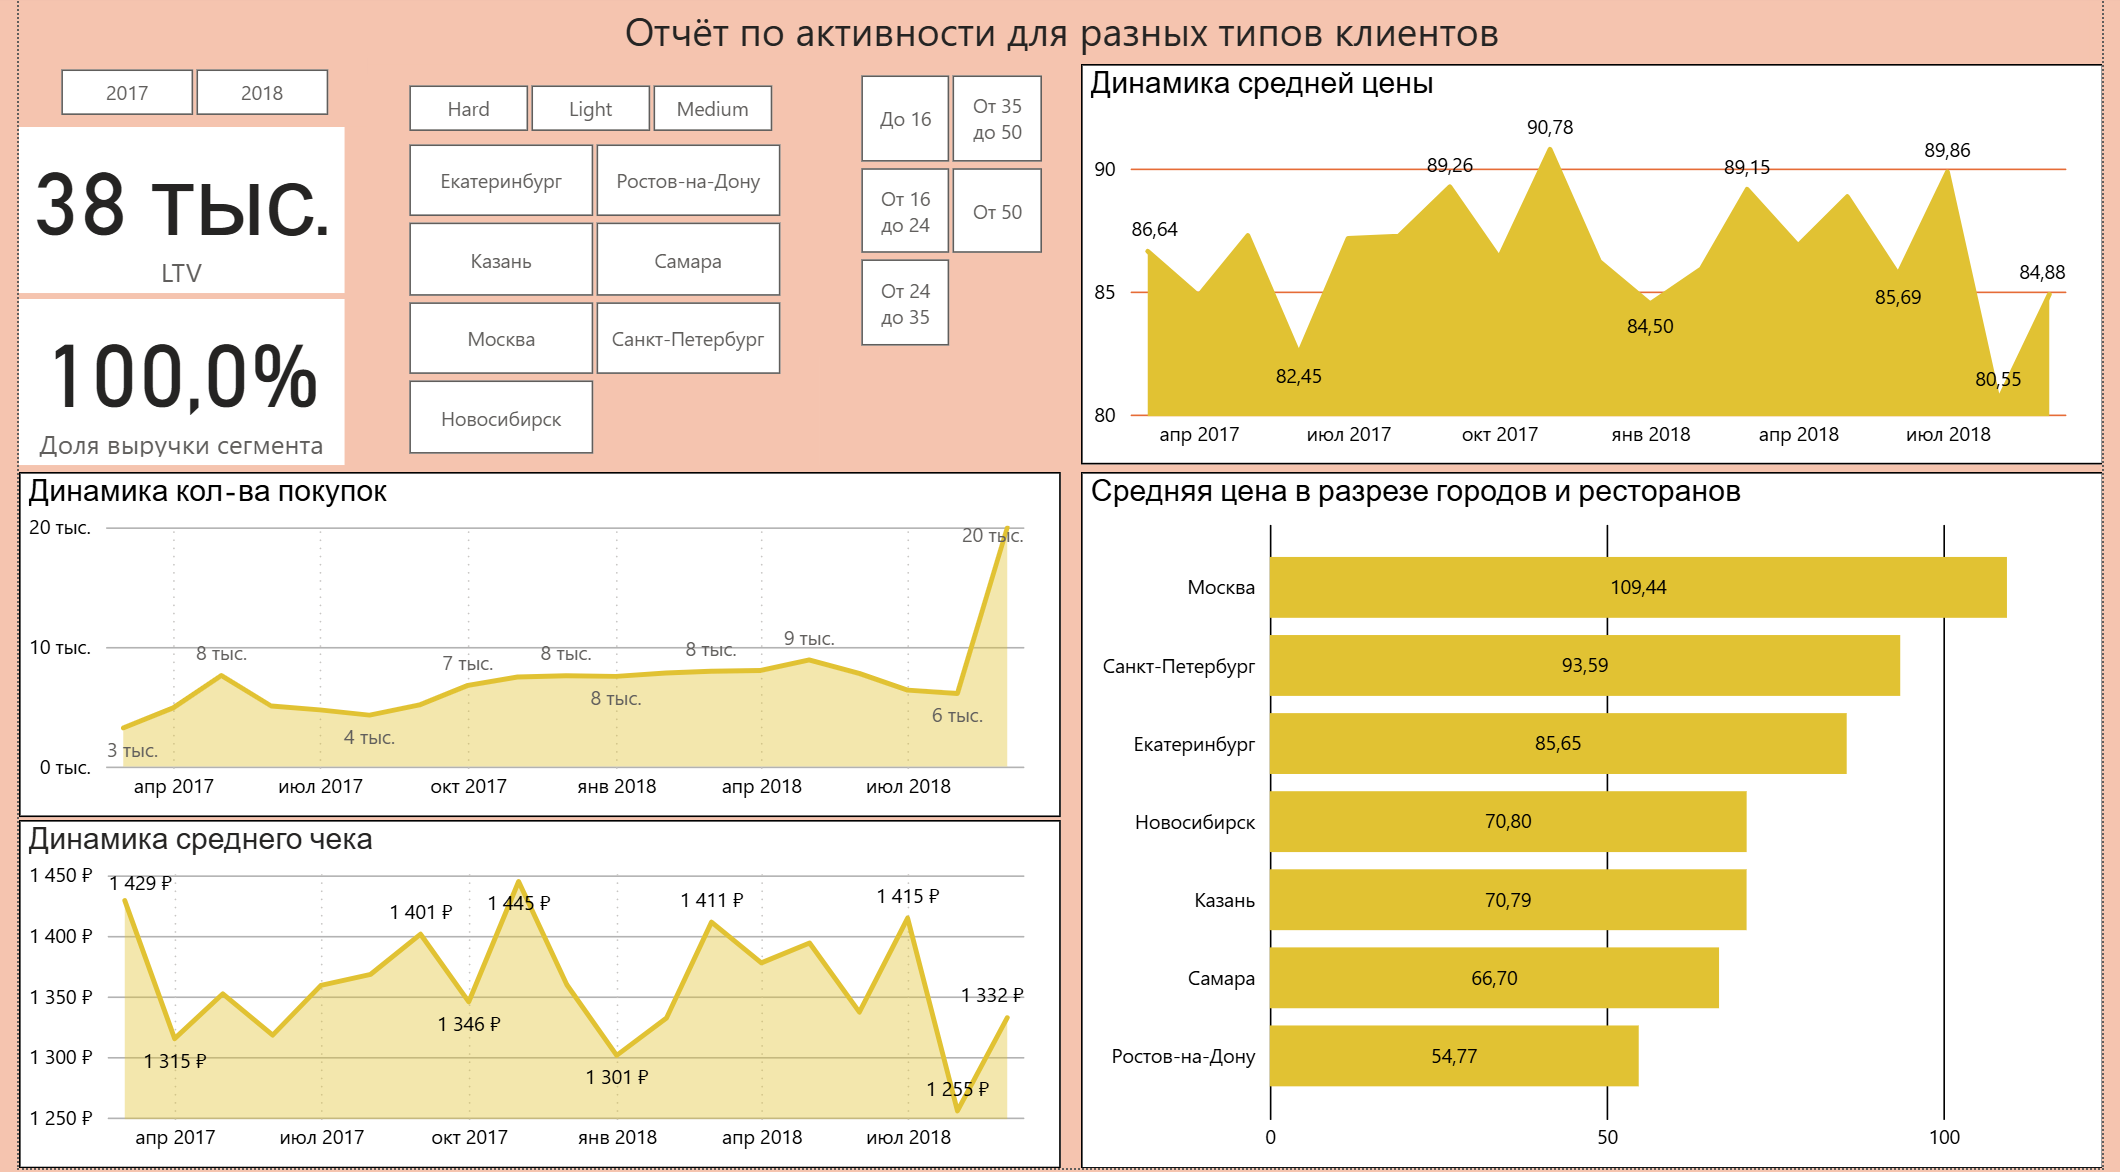

The page's visual inventory and layout, read from the dashboard file:
{"tool":"powerbi","page":{"name":"Отчёт по активности для разных типов клиентов","canvas":[1280,720],"ordinal":2},"visuals":[{"type":"textbox","box":[10,0,1261.9,41.8],"z":0},{"type":"slicer","fields":{"Values":["Календарь.Год"]},"box":[0,38.1,213.8,42.4],"z":1000},{"type":"slicer","fields":{"Values":["Клиенты.Тип клиента"]},"box":[213.8,47.9,272.8,42.4],"z":2000},{"type":"slicer","fields":{"Values":["Рестораны.Город"]},"box":[213.8,84.2,277.7,204],"z":3000},{"type":"slicer","fields":{"Values":["Продажи.Возрастная группа"]},"box":[491.5,41.8,161,180],"z":4000},{"type":"areaChart","title":"Динамика средней цены","fields":{"Category":["Календарь.Date.Изменение.Иерархия дат.Год","Календарь.Date.Изменение.Иерархия дат.Месяц"],"Y":["Меры.Средняя цена"]},"box":[652.4,41.8,627.8,246.3],"z":5000},{"type":"clusteredBarChart","title":"Средняя цена в разрезе городов и ресторанов","fields":{"Category":["Рестораны.Город","Рестораны.Название ресторана"],"Y":["Меры.Средняя цена"]},"box":[652.4,292.4,627.8,427.6],"z":6000},{"type":"areaChart","title":"Динамика кол-ва покупок","fields":{"Y":["Меры.Среднемесячное количество транзакций"],"Category":["Календарь.Date.Изменение.Иерархия дат.Год","Календарь.Date.Изменение.Иерархия дат.Месяц"]},"box":[0,292.4,640.1,211.9],"z":7000},{"type":"areaChart","title":"Динамика среднего чека","fields":{"Category":["Календарь.Date.Изменение.Иерархия дат.Год","Календарь.Date.Изменение.Иерархия дат.Месяц"],"Y":["Меры.Средний чек"]},"box":[0,506.2,640.1,213.8],"z":8000},{"type":"card","fields":{"Values":["Меры.LTV"]},"box":[0,80.5,199.7,102],"z":9000},{"type":"card","fields":{"Values":["Меры.Доля выручки сегмента"]},"box":[0,186.1,199.7,102],"z":10000}]}

Visuals, with their boxes in screenshot pixels (x1, y1, x2, y2), scaled from the page's 1280x720 canvas onto the 2120x1172 screenshot:
textbox: 17:0:2107:68
slicer - Календарь.Год: 0:62:354:131
slicer - Клиенты.Тип клиента: 354:78:806:147
slicer - Рестораны.Город: 354:137:814:469
slicer - Продажи.Возрастная группа: 814:68:1081:361
"Динамика средней цены" areaChart: 1081:68:2119:469
"Средняя цена в разрезе городов и ресторанов" clusteredBarChart: 1081:476:2119:1171
"Динамика кол-ва покупок" areaChart: 0:476:1060:821
"Динамика среднего чека" areaChart: 0:824:1060:1171
card - Меры.LTV: 0:131:331:297
card - Меры.Доля выручки сегмента: 0:303:331:469
